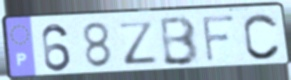6: (40, 21, 73, 74)
8: (81, 21, 114, 70)
B: (159, 14, 201, 67)
C: (242, 11, 283, 62)
F: (199, 13, 237, 65)
Z: (116, 19, 160, 67)
